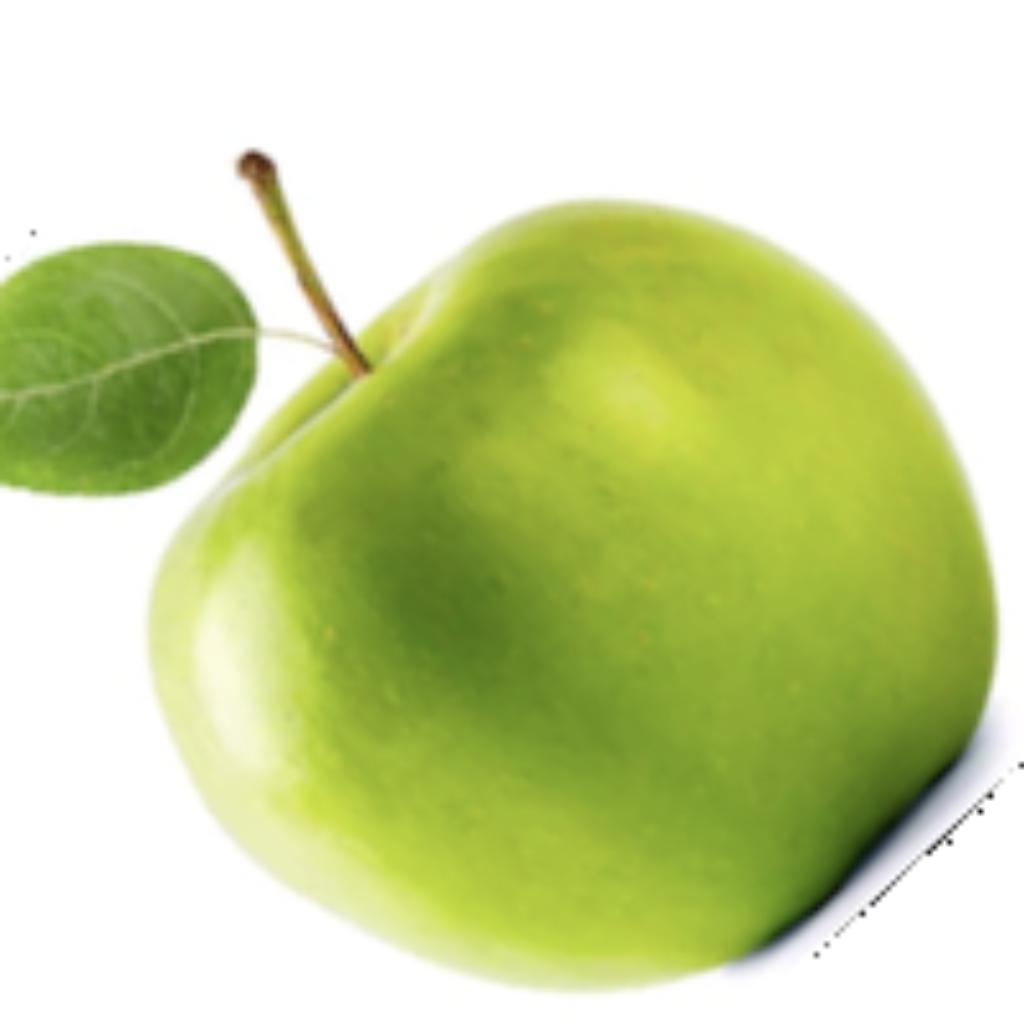apple: (0, 143, 1019, 998)
